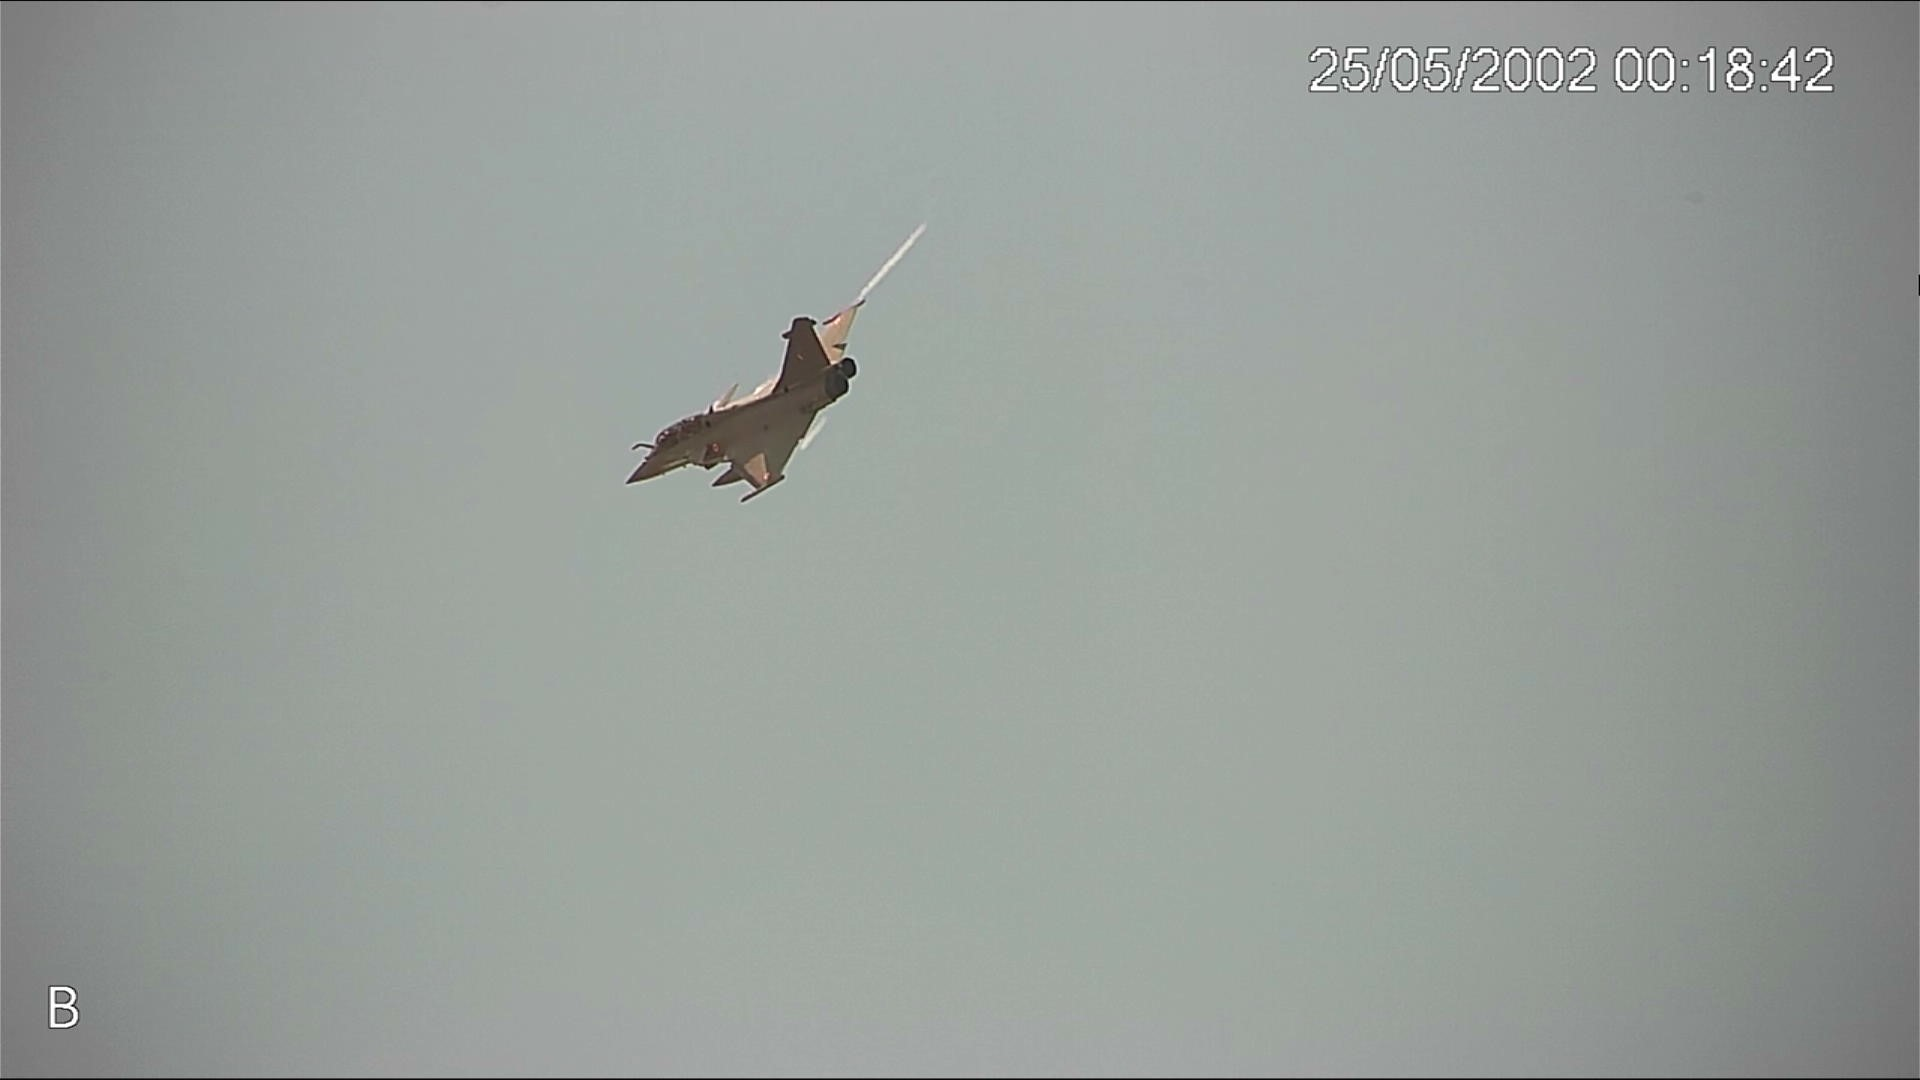SU_30: (615, 298, 869, 508)
